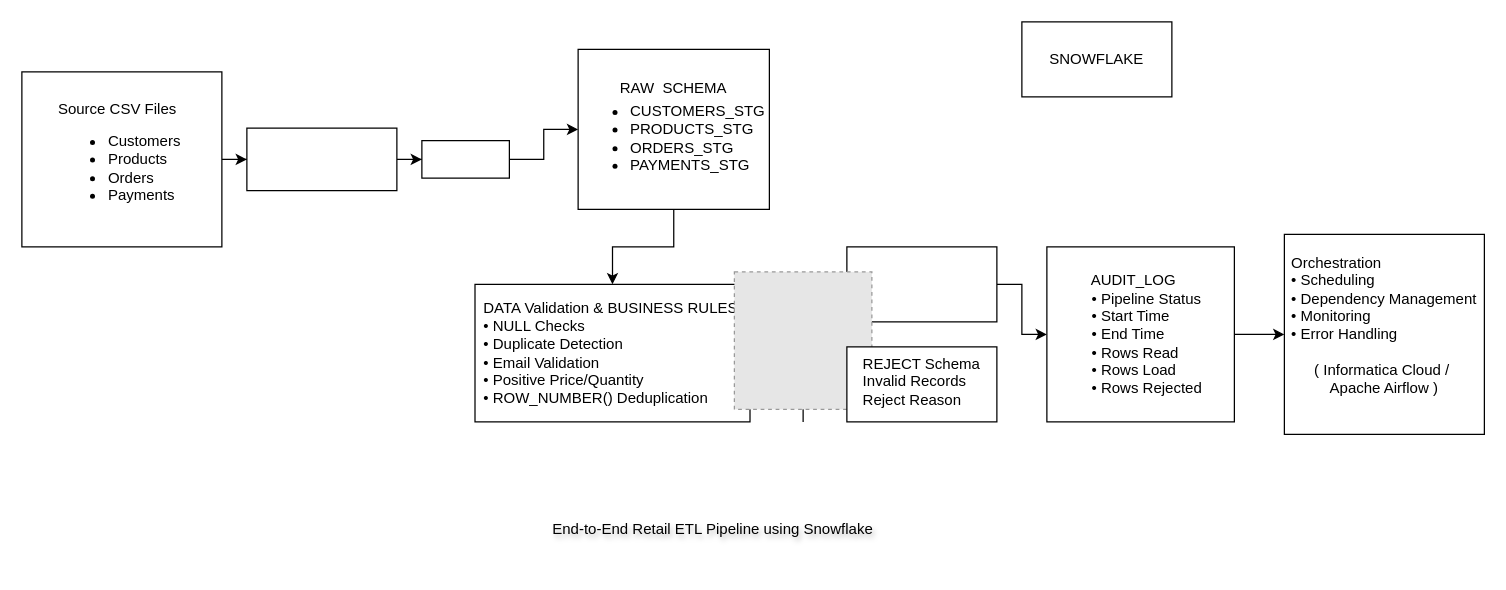
This 1506x590 diagram has some shape labels left out. Grey dashed boxes stand in for pictures. Here are the shapes that lost their labels. From the top down, the centre of each, then its label:
At (x=321, y=159): "☁️ Snowflake Internal Stage".
At (x=465, y=158): "COPY INTO".
At (x=921, y=284): "CURATED Schema MERGE (Incremental Load)".
